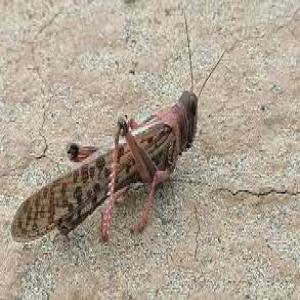locust: (4, 52, 213, 252)
